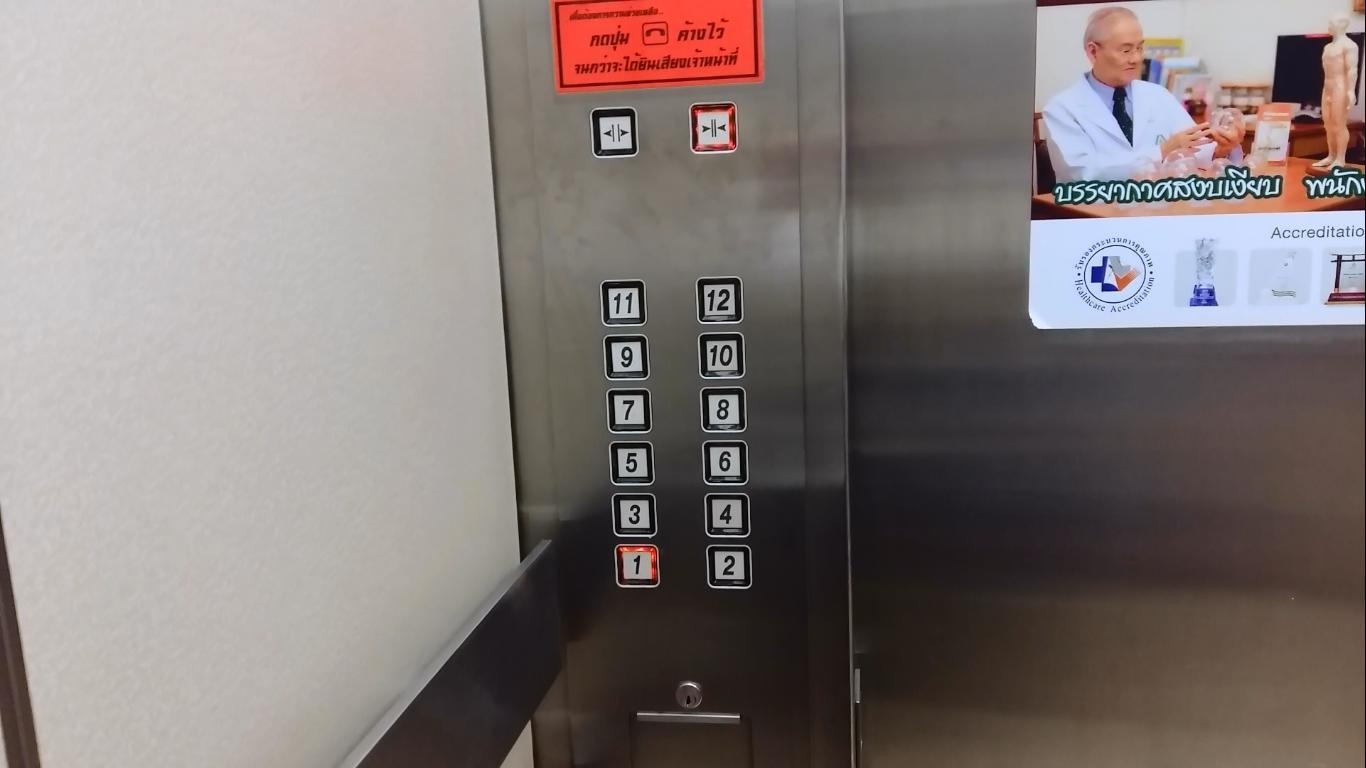1: (612, 541, 662, 591)
10: (696, 330, 747, 382)
11: (598, 275, 651, 330)
12: (693, 272, 746, 327)
2: (704, 542, 754, 592)
3: (609, 490, 659, 540)
4: (702, 491, 752, 541)
5: (607, 438, 657, 488)
6: (700, 437, 750, 487)
7: (603, 384, 654, 436)
8: (698, 383, 749, 435)
9: (600, 331, 651, 383)
close: (687, 100, 740, 155)
keyhole: (669, 679, 709, 714)
open: (588, 104, 641, 159)
